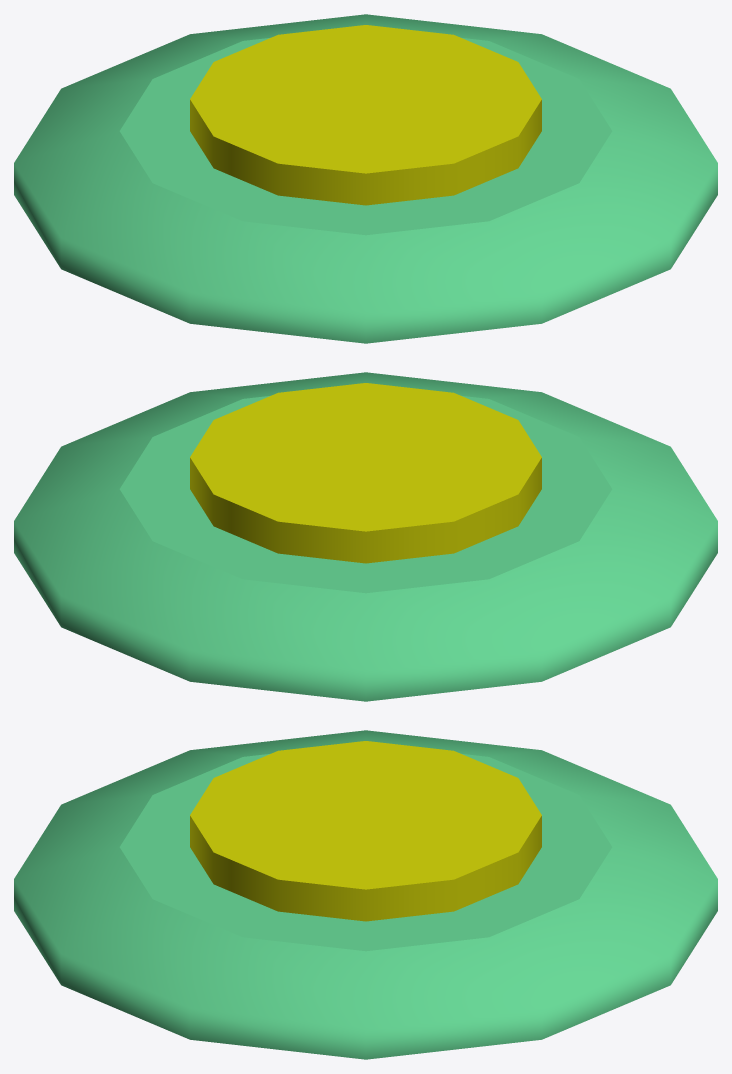
The model's file is Enemy2.fbx.
3 views of the same model, one above another, from view 1: azimuth 30°, elevation 25°; view 2: azimuth 150°, elevation 25°; view 3: azimuth 270°, elevation 25° (orthographic).
Visible parts, largest first — view 1: Cylinder.001; view 2: Cylinder.001; view 3: Cylinder.001.
Part boxes in pixels (x1,y1,x2,y2): Cylinder.001: (14, 14, 717, 343); Cylinder.001: (14, 372, 717, 701); Cylinder.001: (14, 730, 717, 1059).
Bounding box in the file's own units: 400 × 80 × 400.
